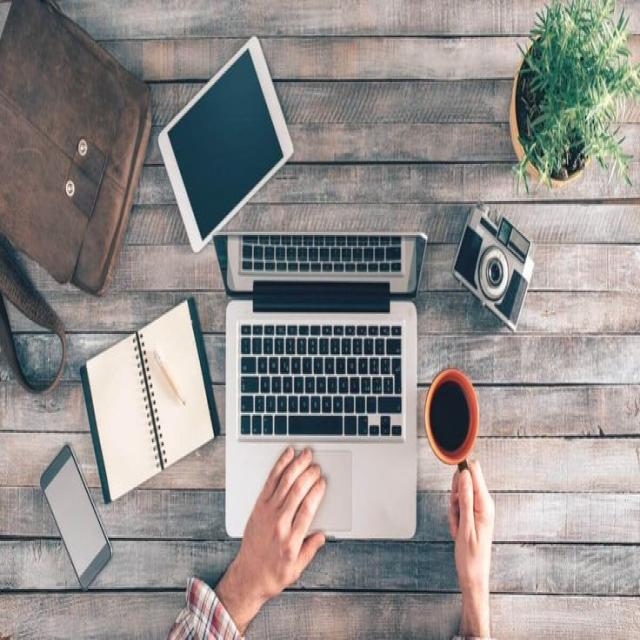bag: (3, 11, 152, 316)
book: (66, 290, 229, 508)
laptop: (209, 227, 426, 555)
mobile: (14, 432, 131, 607)
